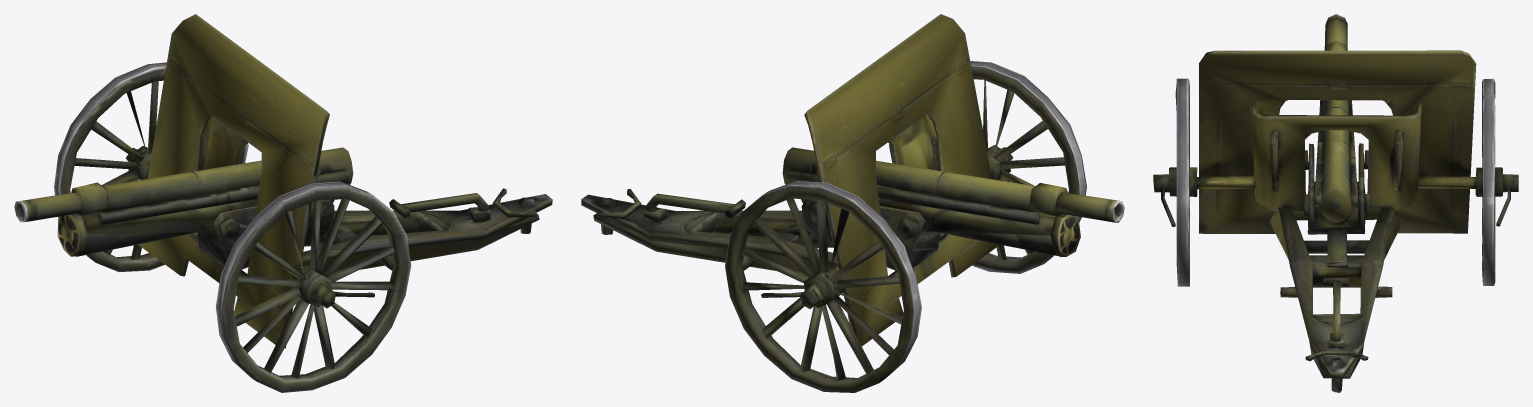
Rendered from polish_fieldgun75.glb.
The picture shows the model from 3 angles, left to right: view 1: azimuth 30°, elevation 25°; view 2: azimuth 150°, elevation 25°; view 3: azimuth 270°, elevation 25°; orthographic projection. The views are drawn at different scales.
Parts seen in each view (by area): view 1: 75mm_Armata_wz_1902_26; view 2: 75mm_Armata_wz_1902_26; view 3: 75mm_Armata_wz_1902_26.
Part boxes in pixels (x1,y1,x2,y2): 75mm_Armata_wz_1902_26: (14, 14, 552, 392); 75mm_Armata_wz_1902_26: (581, 14, 1124, 392); 75mm_Armata_wz_1902_26: (1153, 14, 1518, 392).
Size of the model in its own units: 1 by 0.4648 by 0.6387.
1 material, 1 textured.
